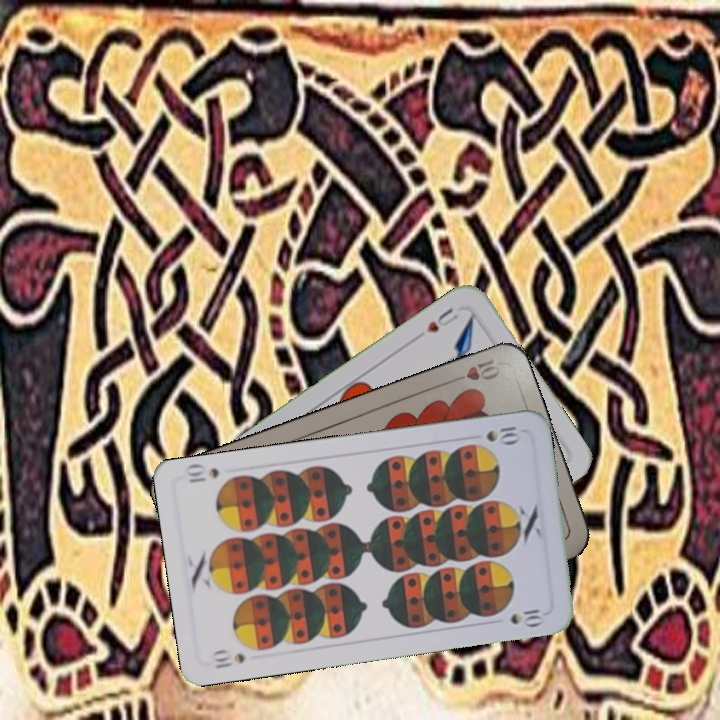H10: (445, 353, 503, 386)
HU: (422, 303, 464, 336)
S10: (481, 422, 523, 447), (207, 646, 249, 671)
